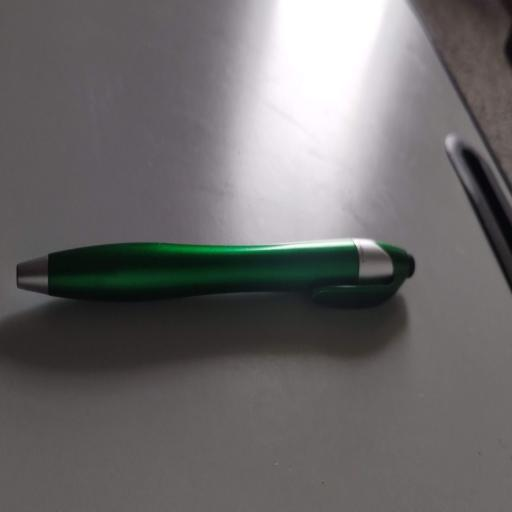pen: (17, 239, 414, 307)
